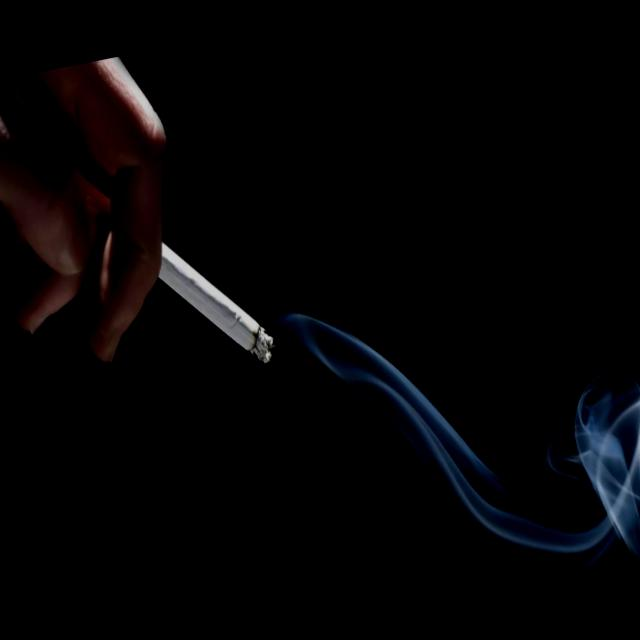cigarette: (6, 90, 279, 408)
